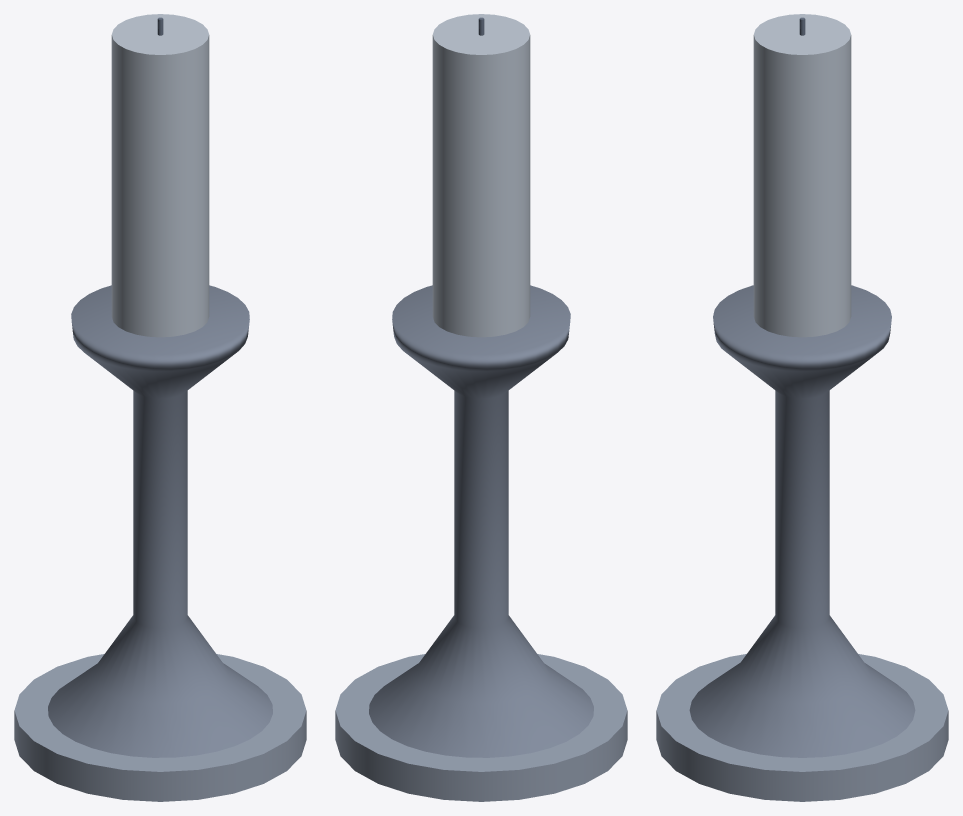
3 renders of one model, left to right at view 1: azimuth 30°, elevation 25°; view 2: azimuth 150°, elevation 25°; view 3: azimuth 270°, elevation 25°, orthographic.
Parts seen in each view (by area): view 1: accent, light, body; view 2: accent, light, body; view 3: accent, light, body.
Boxes of the visible parts, box(x1,y1,x2,y2) form: accent: box(48, 285, 272, 757); light: box(111, 14, 209, 337); body: box(14, 654, 306, 801); accent: box(369, 285, 593, 757); light: box(432, 14, 530, 337); body: box(335, 654, 627, 801); accent: box(689, 285, 915, 757); light: box(753, 14, 851, 337); body: box(656, 654, 948, 801).
Bounding box in the file's own units: 0.15 × 0.409 × 0.15.
